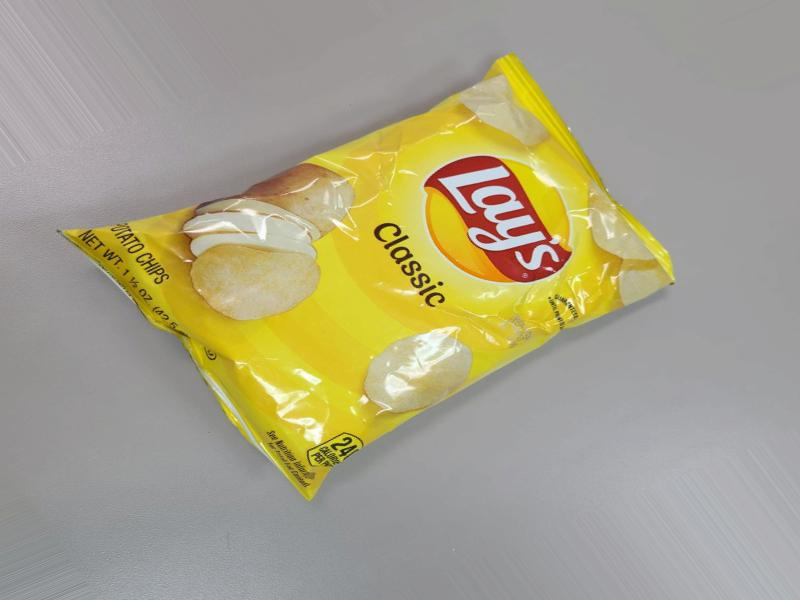lays: (121, 0, 733, 528)
